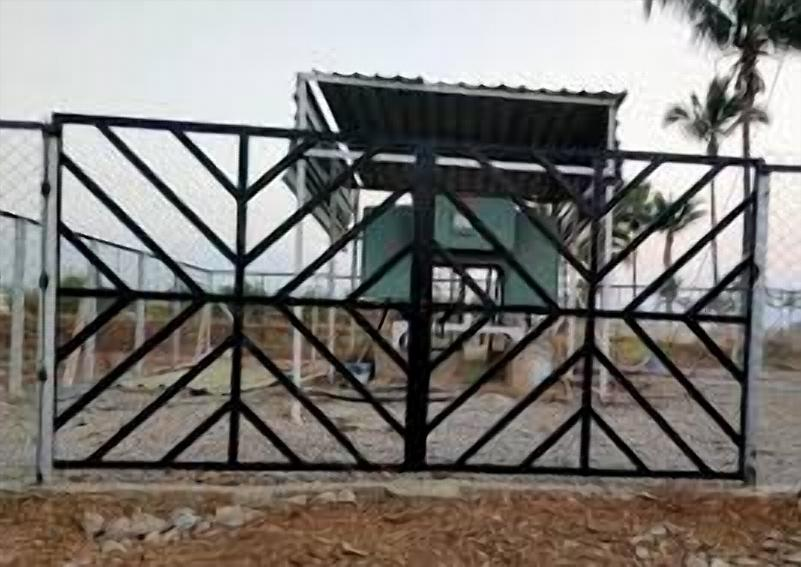Gate: (50, 111, 772, 486)
